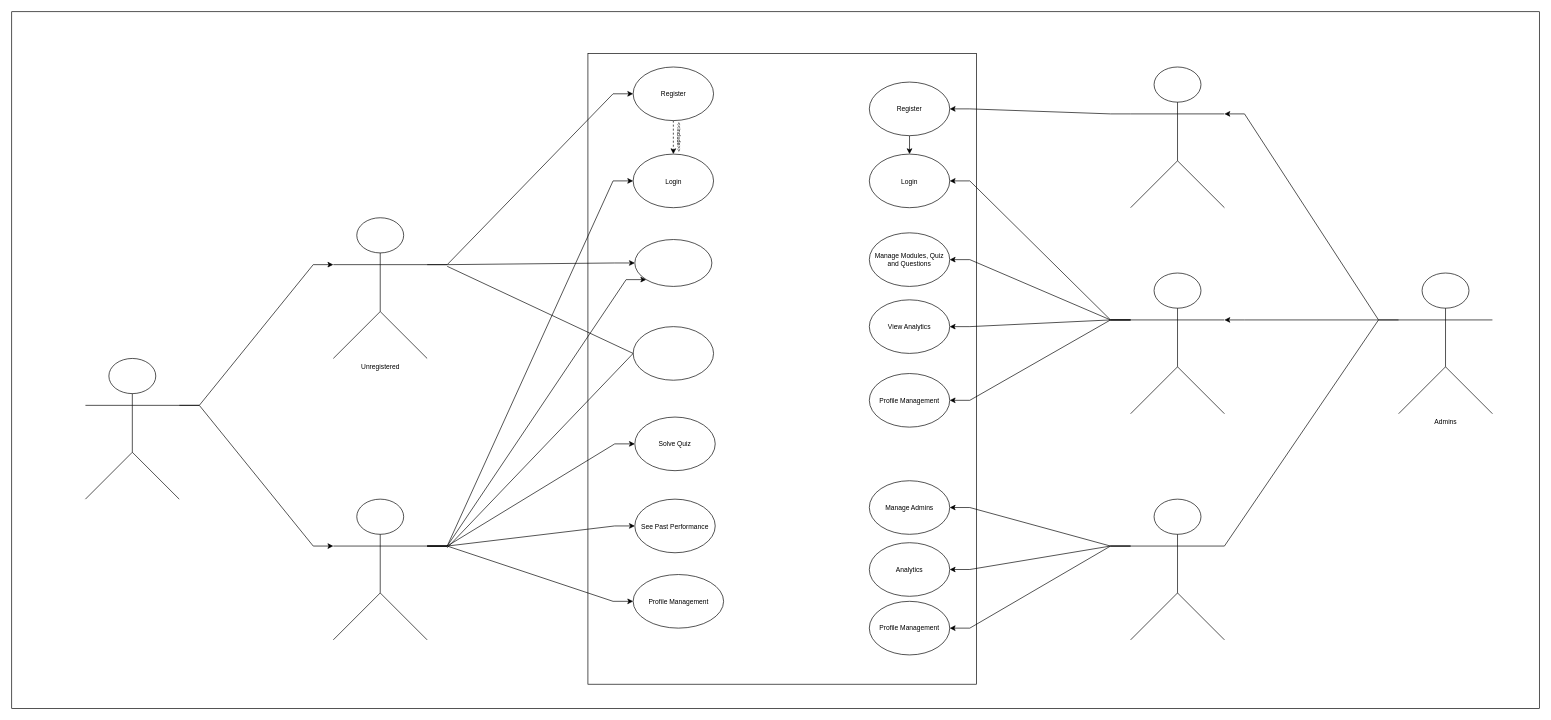
This 1551x720 diagram has some shape labels left out. Here are the shapes that lost their labels. From the top down, the centre of each, then its label:
At [1177,137]: "Unregistered Admins".
At [673,262]: "View Modules and Quizzes".
At [673,353]: "Solve Open Quiz".
At [1177,343]: "Registered Admins".
At [132,428]: "User".
At [380,569]: "Registered User".
At [1177,569]: "Web Admin".
